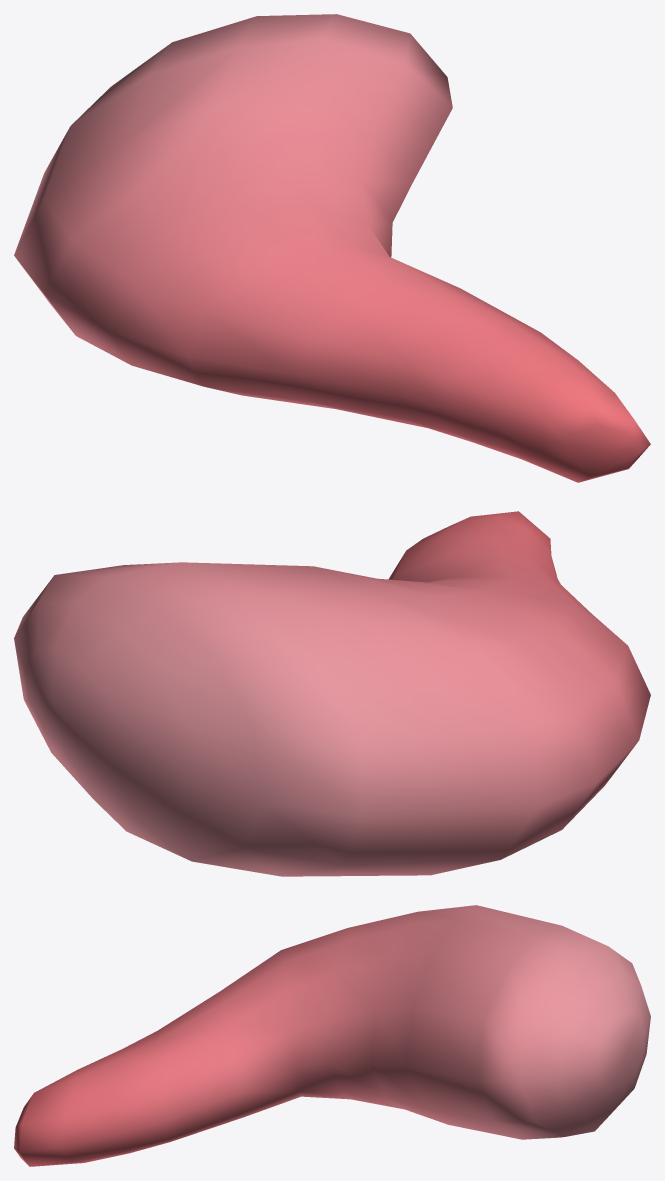
File: fillet_003.fbx
3 views of the same model, one above another, from view 1: azimuth 30°, elevation 25°; view 2: azimuth 150°, elevation 25°; view 3: azimuth 270°, elevation 25° (orthographic). The views are drawn at different scales.
Visible parts, largest first — view 1: fillet_003; view 2: fillet_003; view 3: fillet_003.
Boxes of the visible parts, <box> form: fillet_003: <box>14,14,650,482</box>; fillet_003: <box>14,511,650,876</box>; fillet_003: <box>14,905,650,1166</box>.
Size of the model in its own units: 8.61 by 12.4 by 4.41.
